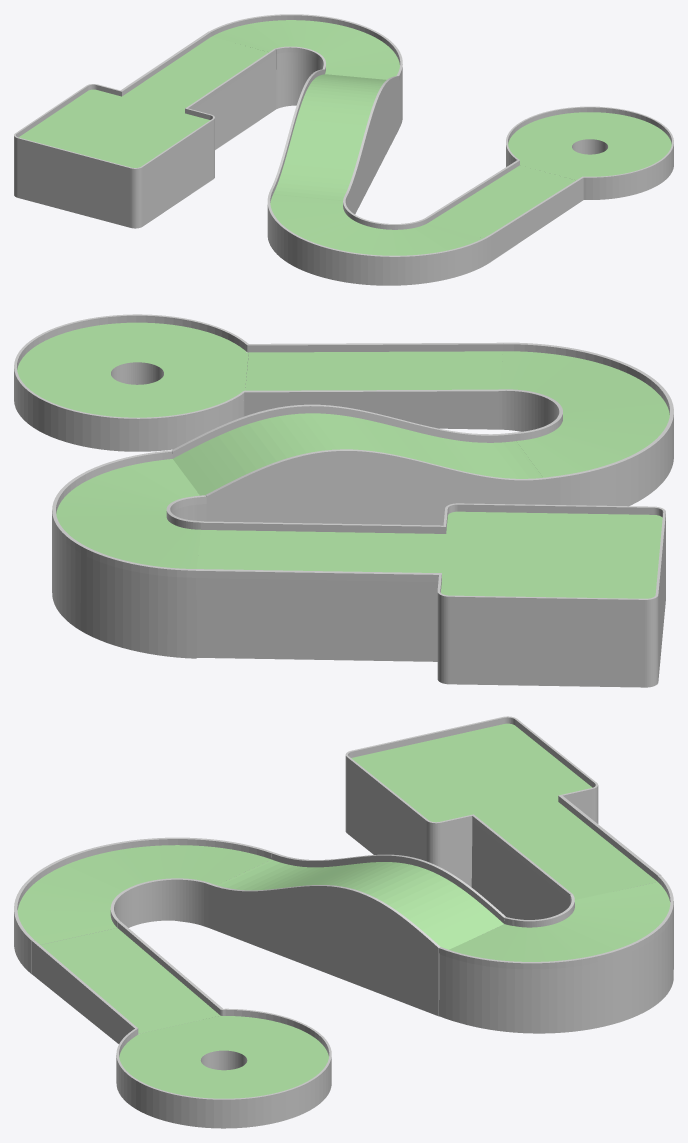
File: GolfStage05.glb
The picture shows the model from 3 angles, top to bottom: view 1: azimuth 30°, elevation 25°; view 2: azimuth 150°, elevation 25°; view 3: azimuth 270°, elevation 25°; orthographic projection. The views are drawn at different scales.
Visible parts, largest first — view 1: Cube.001; view 2: Cube.001; view 3: Cube.001.
Part boxes in pixels (x1,y1,x2,y2): Cube.001: (14, 14, 673, 285); Cube.001: (14, 314, 673, 687); Cube.001: (14, 716, 673, 1128).
Size of the model in its own units: 5.79 by 0.7516 by 4.82.
